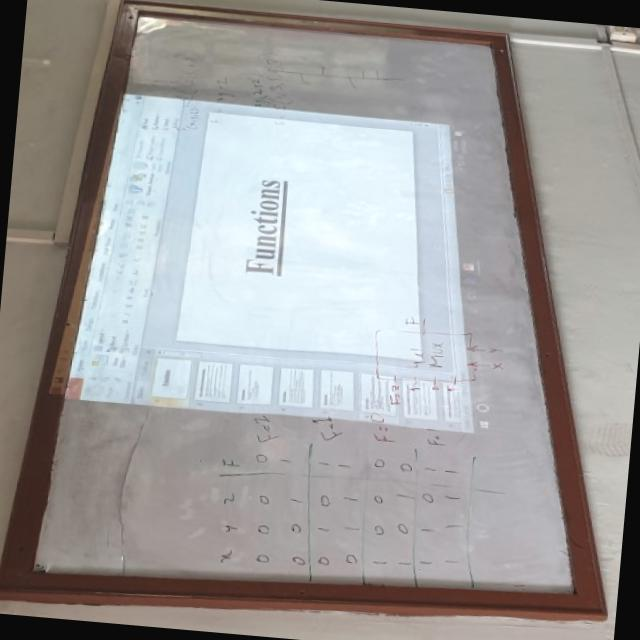Slide: (47, 89, 498, 435)
White-board: (6, 3, 592, 595)
